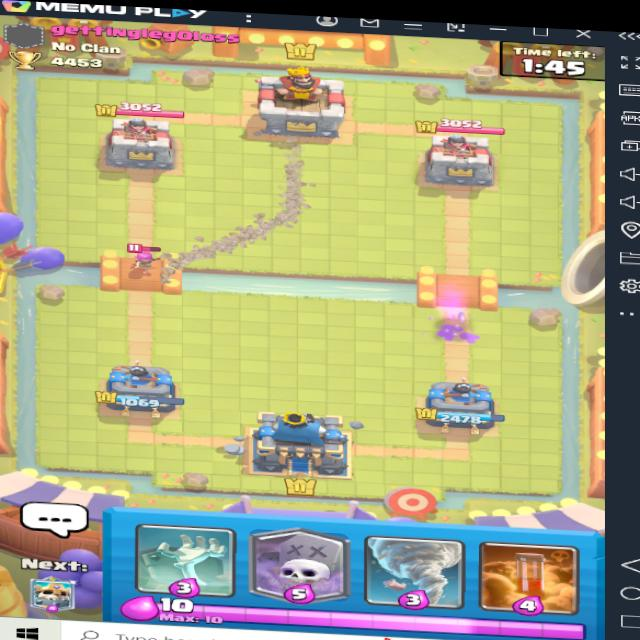Archer: (125, 238, 159, 273)
Trail: (168, 143, 325, 276)
